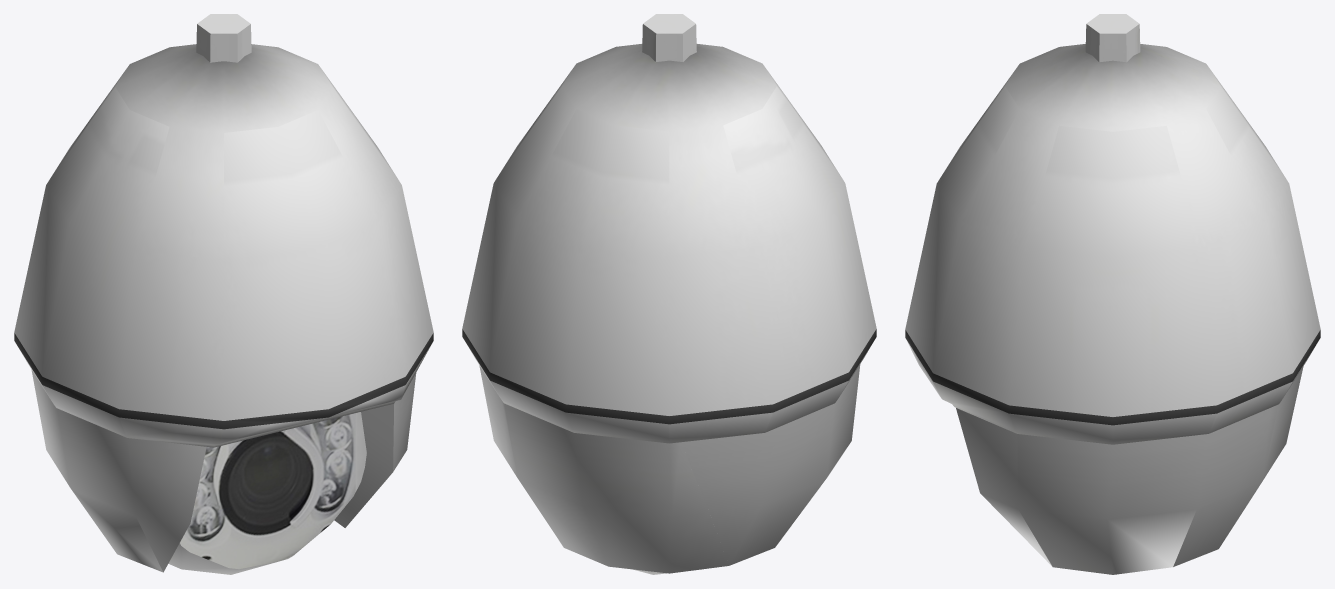
Rendered from cctv.glb.
The picture shows the model from 3 angles, left to right: view 1: azimuth 30°, elevation 25°; view 2: azimuth 150°, elevation 25°; view 3: azimuth 270°, elevation 25°; orthographic projection.
Parts seen in each view (by area): view 1: CCTV_PTZ; view 2: CCTV_PTZ; view 3: CCTV_PTZ.
Boxes of the visible parts, x1,y1,x2,y2 form: CCTV_PTZ: (14, 14, 433, 574); CCTV_PTZ: (462, 14, 876, 574); CCTV_PTZ: (905, 14, 1320, 574).
Size of the model in its own units: 0.16 by 0.2275 by 0.16.
1 material, 1 textured.
